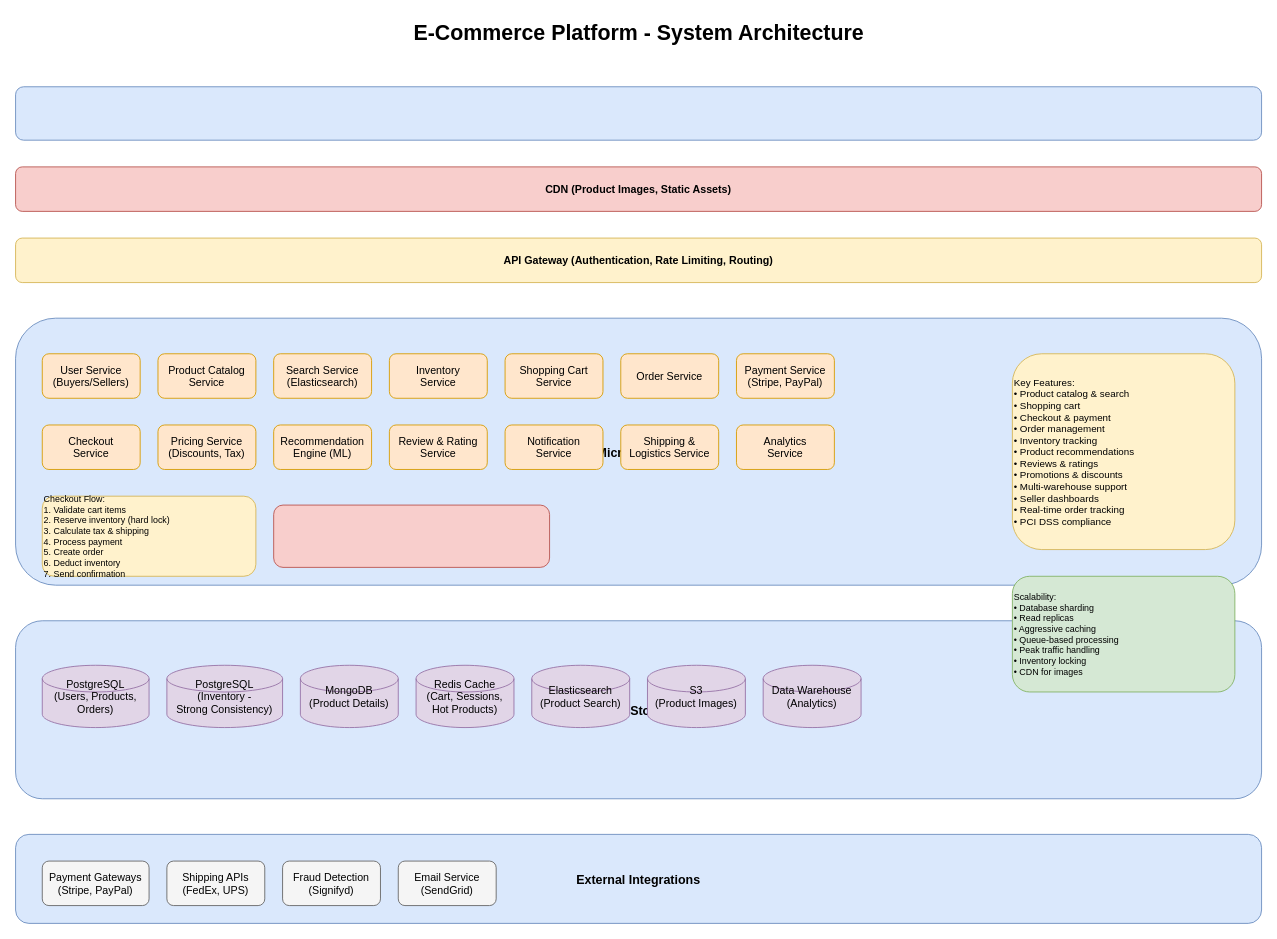
The diagram is 1277 pixels wide and 939 high, and some of its shapes have lost their labels. Here are the shapes that lost their labels. From the top down, the centre of each, then its label:
At point (638, 113): "Clients (Web, Mobile, Seller Portal)".
At point (411, 535): "Message Queue (Kafka) Order events, Inventory updates, Notifications".
